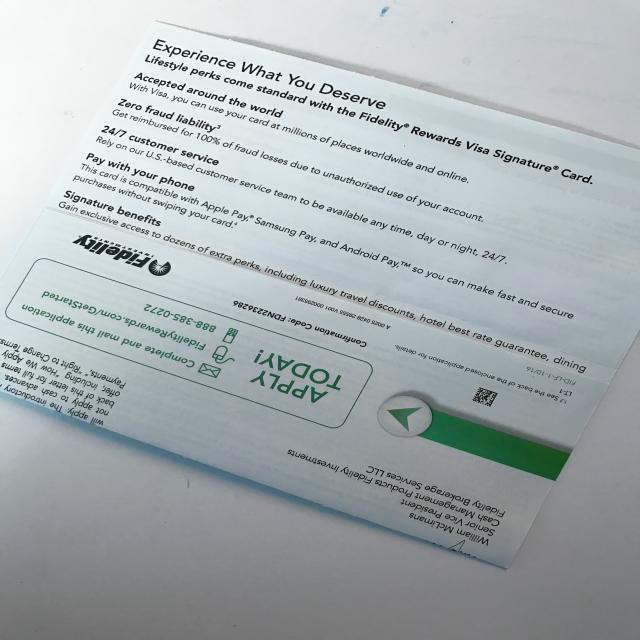paper: (1, 0, 640, 568)
